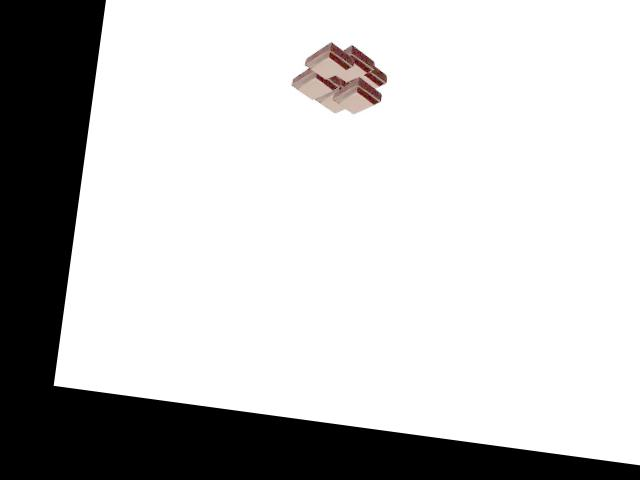chocolate: (289, 40, 393, 122)
